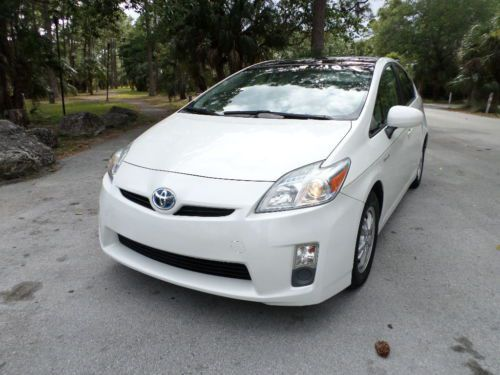Toyota Prius: (98, 58, 428, 309)
